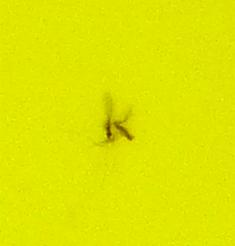Nematocera: (100, 100, 135, 146)
